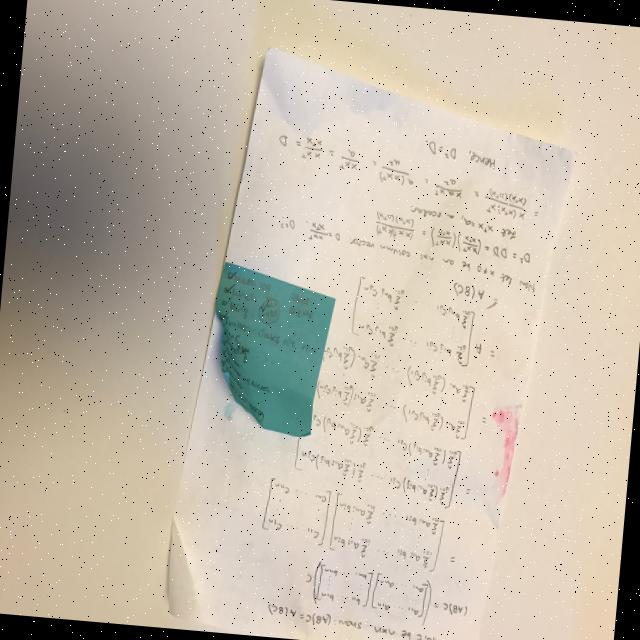paper: (161, 40, 582, 640)
